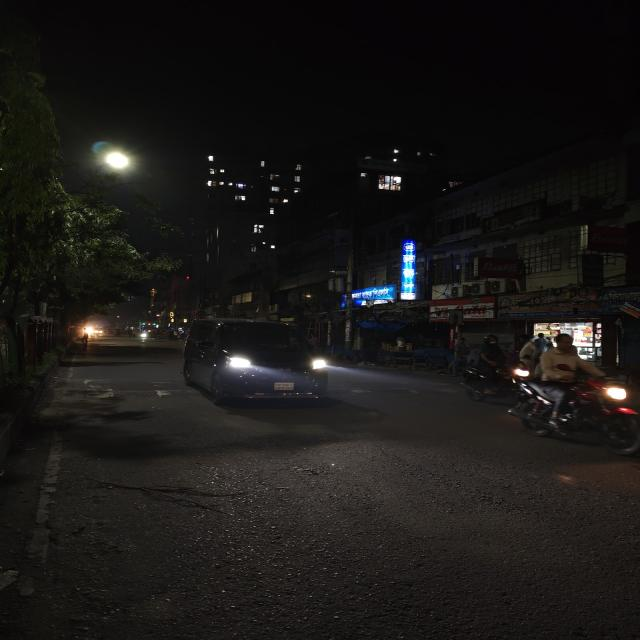car: (182, 317, 332, 409)
motorcycle: (504, 331, 640, 457), (458, 334, 516, 403)
